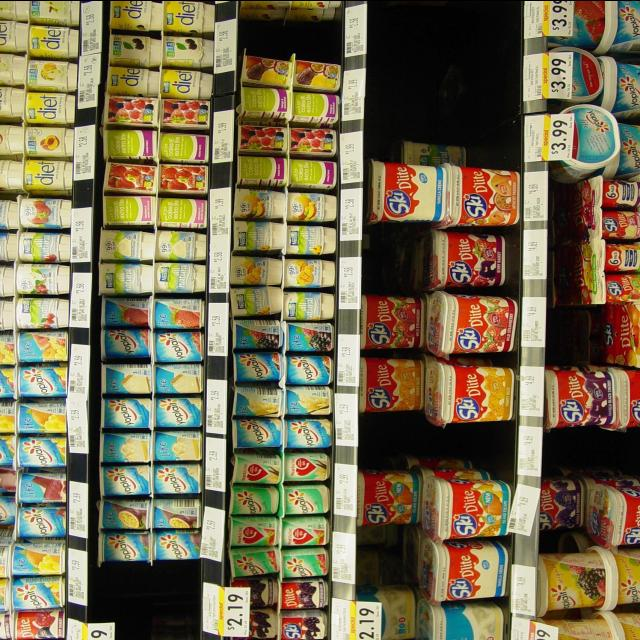empty_space: (383, 0, 513, 133), (117, 566, 185, 636), (378, 429, 508, 459), (238, 17, 334, 55), (550, 435, 640, 473), (365, 533, 403, 575), (560, 308, 589, 356)
